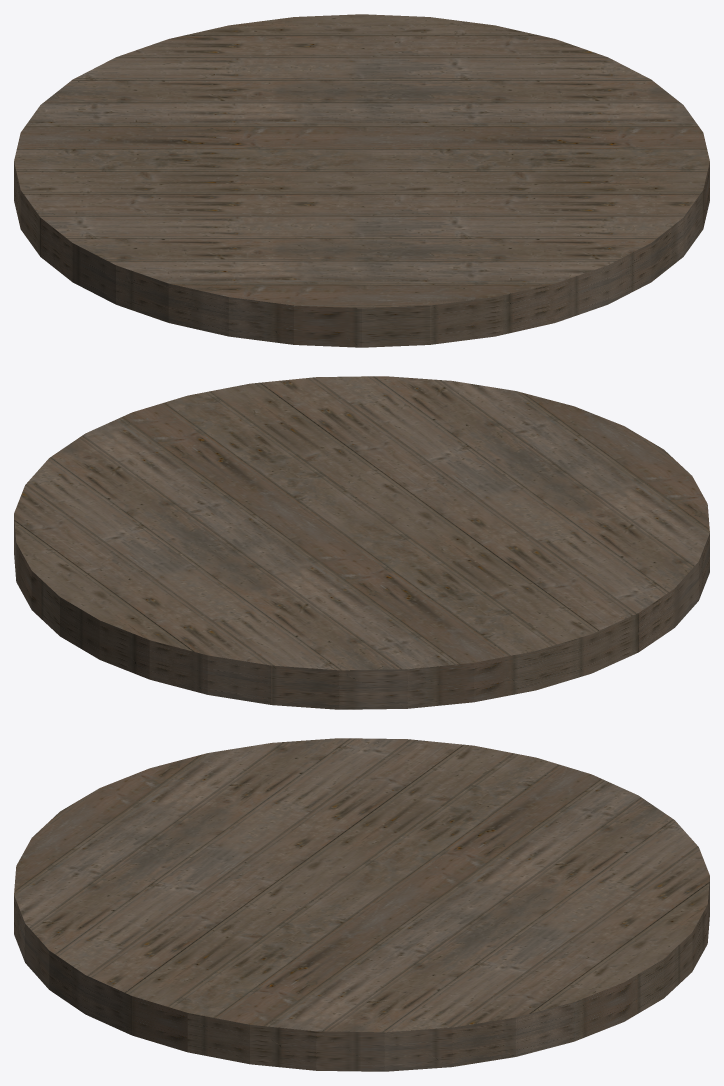
The model's file is floor.glb.
The picture shows the model from 3 angles, top to bottom: view 1: azimuth 30°, elevation 25°; view 2: azimuth 150°, elevation 25°; view 3: azimuth 270°, elevation 25°; orthographic projection.
Parts seen in each view (by area): view 1: floor; view 2: floor; view 3: floor.
Part boxes in pixels (x1,y1,x2,y2): floor: (14, 14, 709, 347); floor: (14, 376, 709, 709); floor: (14, 738, 709, 1071).
Size of the model in its own units: 399 by 25 by 399.
1 material, 1 textured.
